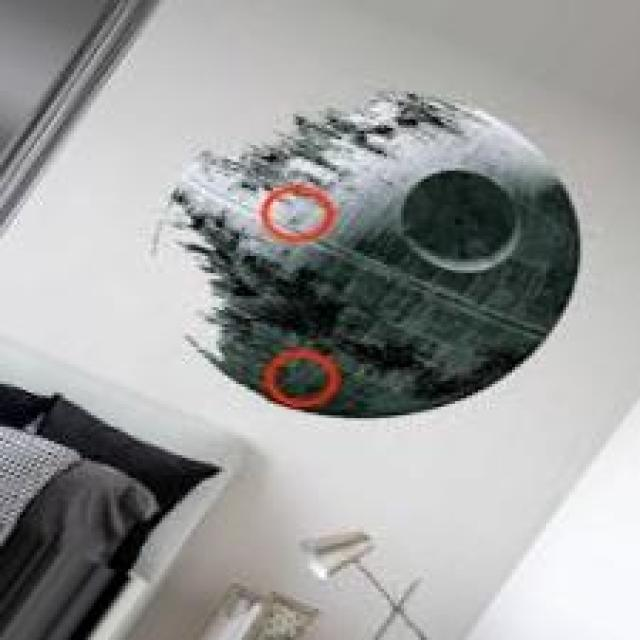deathstar: (145, 84, 582, 417)
